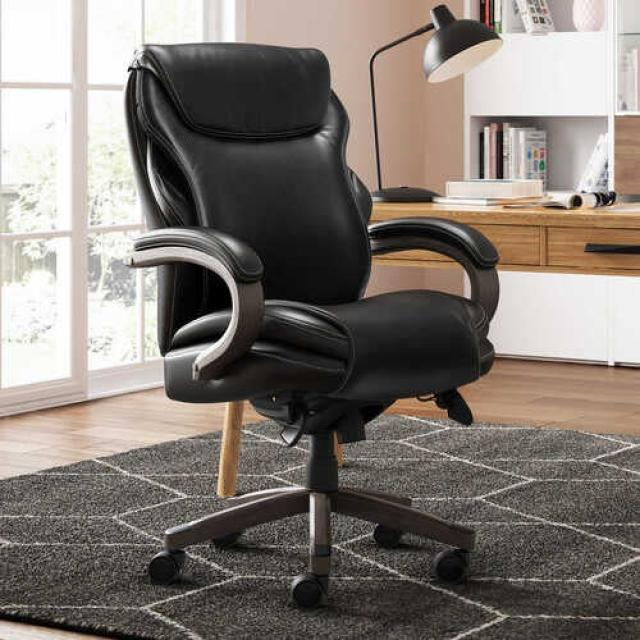chair: (40, 20, 504, 640)
